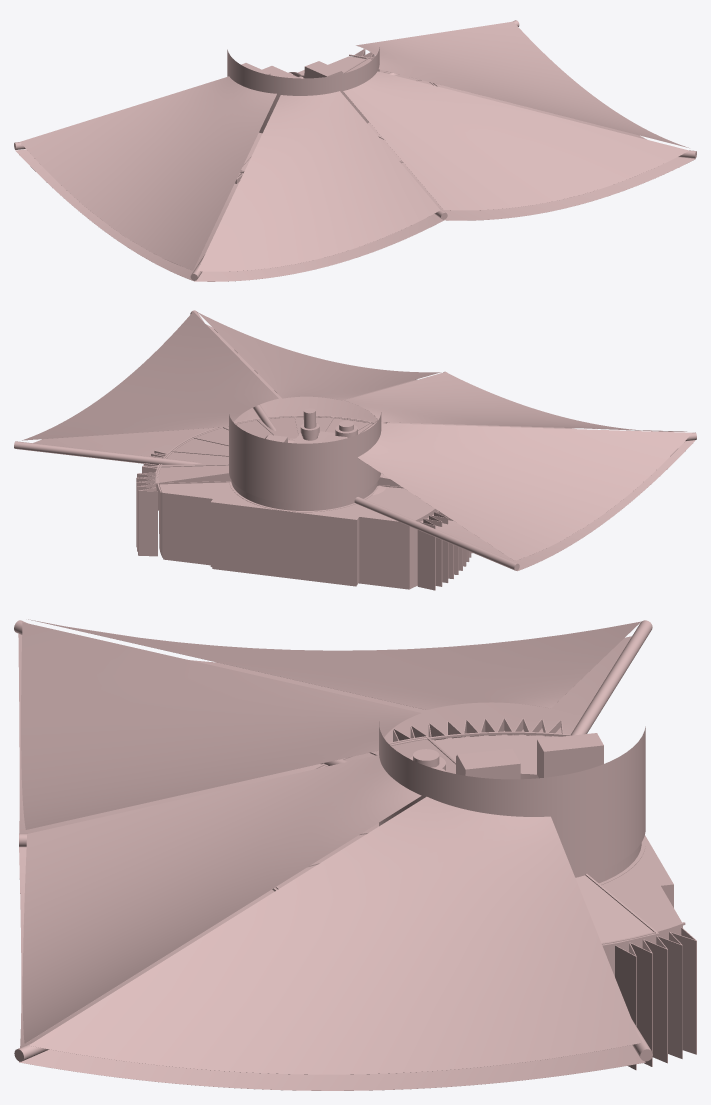
The model's file is 02-burkli.glb.
The picture shows the model from 3 angles, top to bottom: view 1: azimuth 30°, elevation 25°; view 2: azimuth 150°, elevation 25°; view 3: azimuth 270°, elevation 25°; orthographic projection. The views are drawn at different scales.
Bounding box in the file's own units: 22859 × 5860 × 15243.
